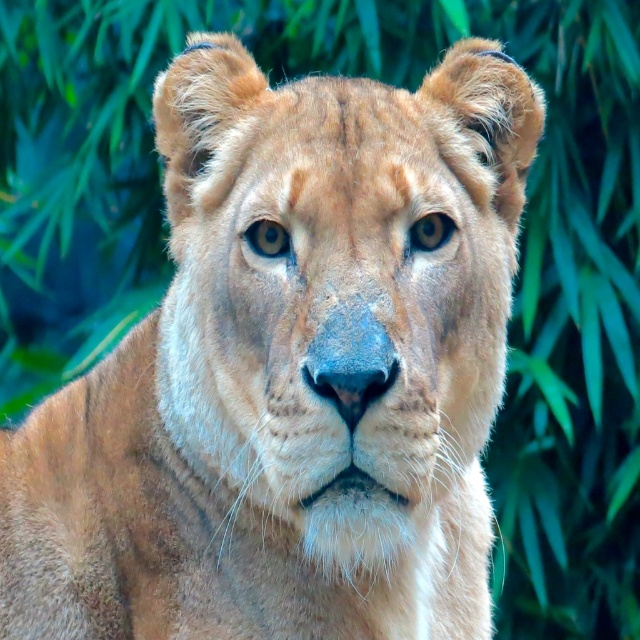Lion: (0, 28, 549, 640)
